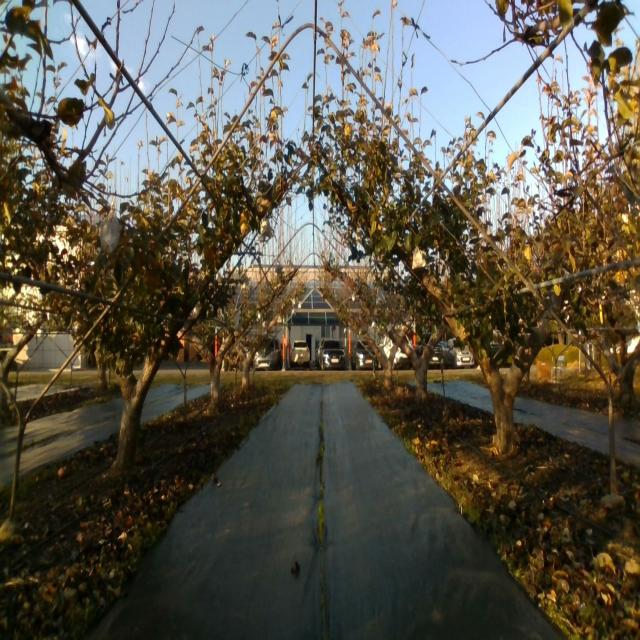pearbags: (99, 212, 120, 256), (412, 245, 426, 270), (260, 220, 272, 238)
